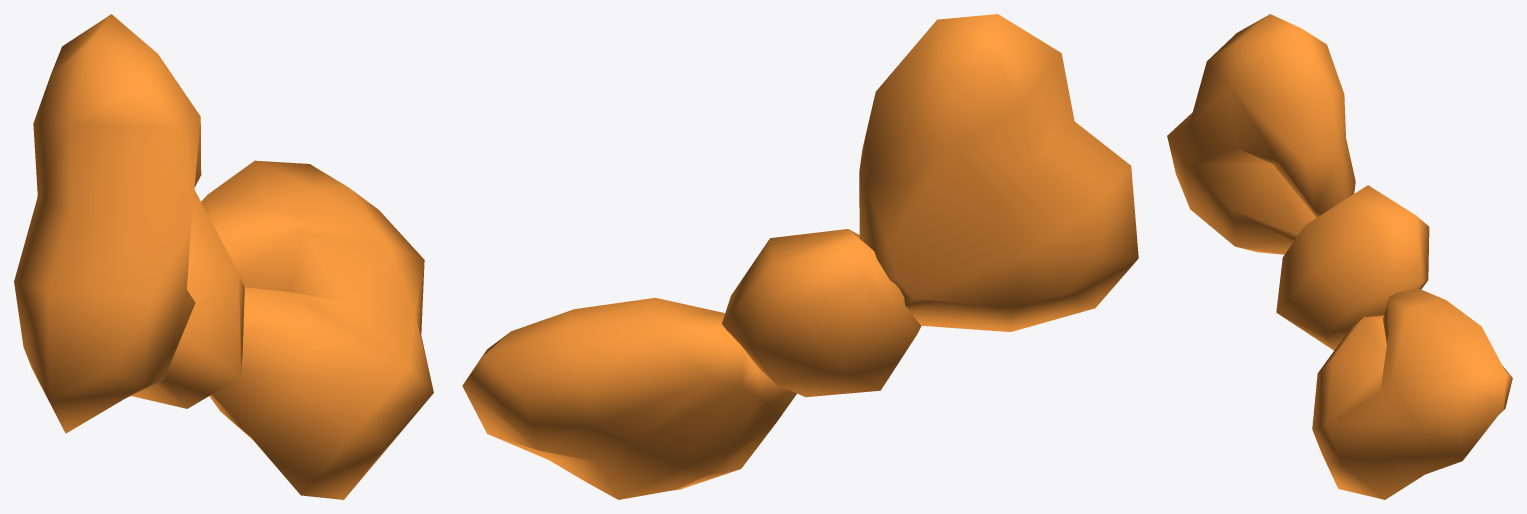
Rendered from HairAcc_2.fbx.
The picture shows the model from 3 angles, left to right: view 1: azimuth 30°, elevation 25°; view 2: azimuth 150°, elevation 25°; view 3: azimuth 270°, elevation 25°; orthographic projection. The views are drawn at different scales.
Parts seen in each view (by area): view 1: HairAcc_2; view 2: HairAcc_2; view 3: HairAcc_2.
Part boxes in pixels (bbox=[...]): HairAcc_2: bbox=[14, 14, 433, 499]; HairAcc_2: bbox=[462, 14, 1138, 499]; HairAcc_2: bbox=[1167, 14, 1512, 499].
Size of the model in its own units: 34.13 by 34.09 by 28.36.
